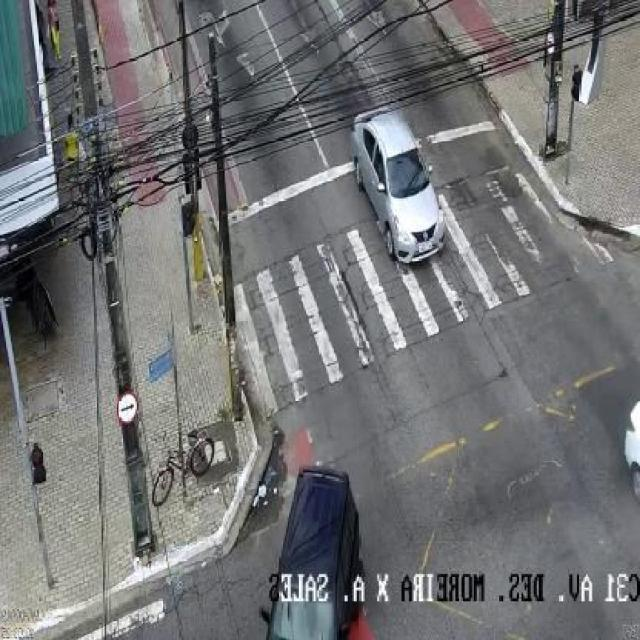Car: (352, 106, 448, 265)
Cycle: (150, 430, 216, 507)
Van: (264, 465, 362, 640)
